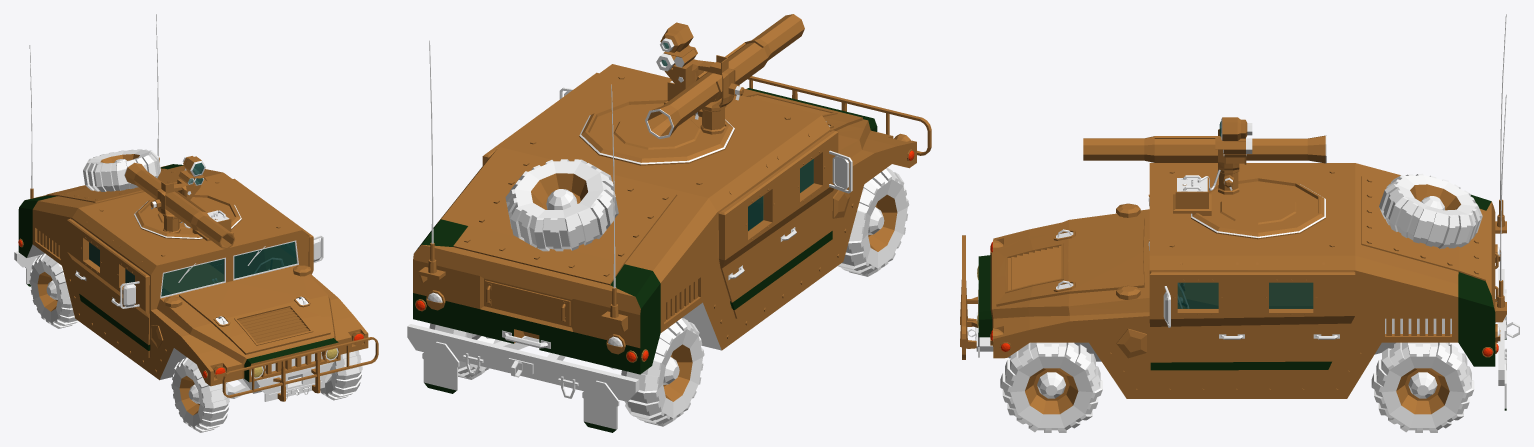
Rendered from Military4x4_03.FBX.
3 views of the same model, side by side, from view 1: azimuth 30°, elevation 25°; view 2: azimuth 150°, elevation 25°; view 3: azimuth 270°, elevation 25° (orthographic). The views are drawn at different scales.
Visible parts, largest first — view 1: Military4x4_03, interior, wheel_f_r, rocketLauncher, wheel_b_r, spareWheel, bumper_f, hatch, grill, wheel_f_l, rocketLauncher_mount, rocketLauncher_scope (+3 smaller); view 2: Military4x4_03, bumper_b, spareWheel, hatch, wheel_b_r, rocketLauncher, wheel_f_r, rocketLauncher_mount, rocketLauncher_scope, bumper_f, mirror_r, interior (+5 smaller); view 3: Military4x4_03, wheel_b_l, wheel_f_l, hatch, spareWheel, rocketLauncher, interior, grill, rocketLauncher_panel, rocketLauncher_scope, rocketLauncher_mount, bumper_f (+2 smaller).
Part boxes in pixels (x1,y1,x2,y2): Military4x4_03: (18,164,368,401); interior: (89,242,296,296); wheel_f_r: (171,357,229,432); rocketLauncher: (124,162,234,248); wheel_b_r: (29,253,78,328); spareWheel: (83,149,160,191); bumper_f: (222,337,378,401); hatch: (134,194,241,239); grill: (238,307,309,343); wheel_f_l: (320,350,362,400); rocketLauncher_mount: (150,179,201,233); rocketLauncher_scope: (178,156,206,185); Military4x4_03: (413,64,916,374); bumper_b: (407,324,639,432); spareWheel: (505,159,618,251); hatch: (579,99,734,165); wheel_b_r: (621,318,704,426); rocketLauncher: (645,14,804,138); wheel_f_r: (838,168,909,276); rocketLauncher_mount: (664,55,743,134); rocketLauncher_scope: (656,22,697,71); bumper_f: (747,76,931,155); mirror_r: (829,150,852,193); interior: (748,159,813,230); Military4x4_03: (968,163,1506,398); wheel_b_l: (1371,342,1474,432); wheel_f_l: (1000,342,1102,432); hatch: (1191,177,1325,239); spareWheel: (1379,173,1482,248); rocketLauncher: (1083,135,1326,163); interior: (1178,283,1312,308); grill: (1007,246,1061,290); rocketLauncher_panel: (1173,169,1220,215); rocketLauncher_scope: (1215,117,1252,153); rocketLauncher_mount: (1218,129,1246,194); bumper_f: (960,235,977,359).
Size of the model in its own units: 30.77 by 36.84 by 56.29.
